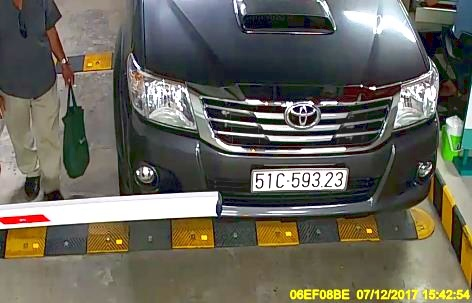plate: (249, 160, 349, 198)
